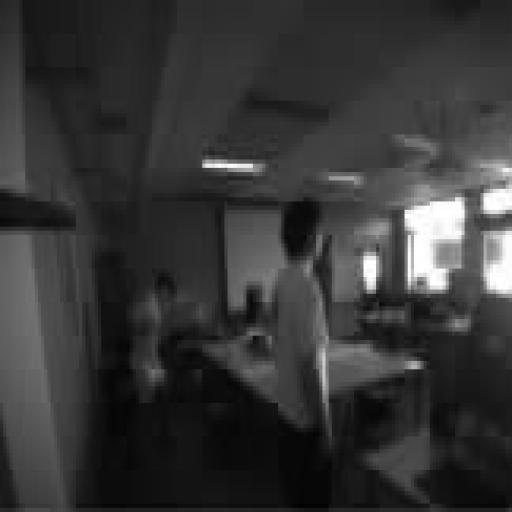human: (272, 198, 331, 507), (130, 286, 170, 457)
